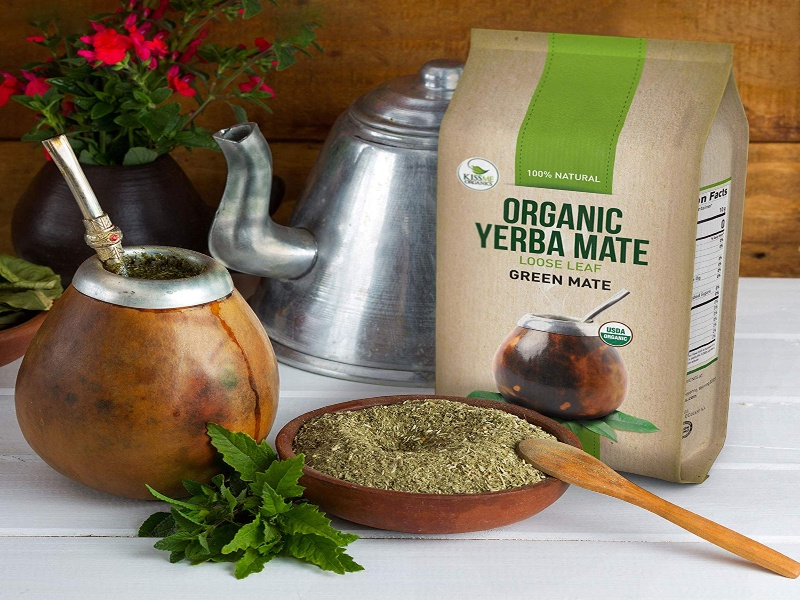guampa: (30, 136, 269, 516)
